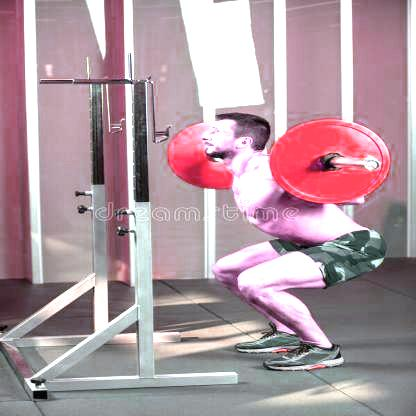Barbell: (356, 157, 384, 176)
